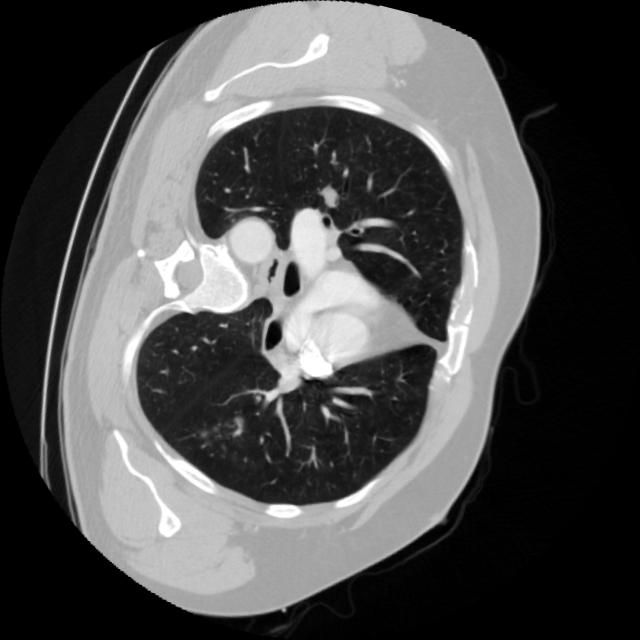nodule: (308, 178, 351, 220)
